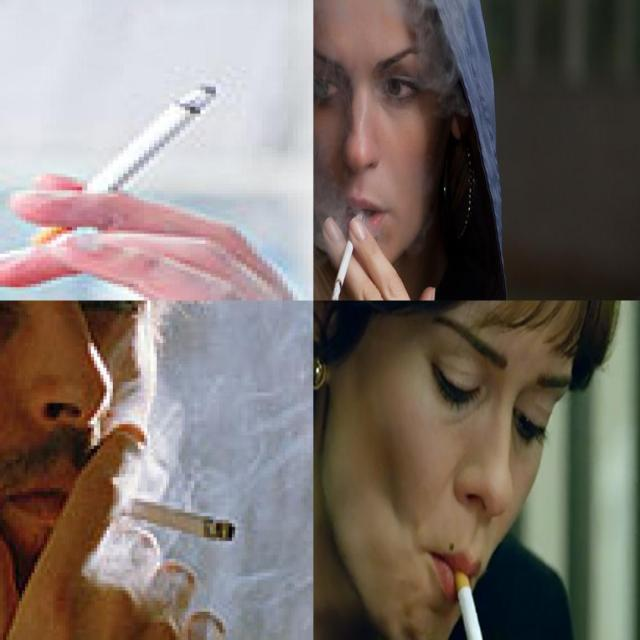smoking: (27, 84, 220, 250), (117, 490, 236, 543), (452, 560, 499, 640), (330, 206, 366, 300)
